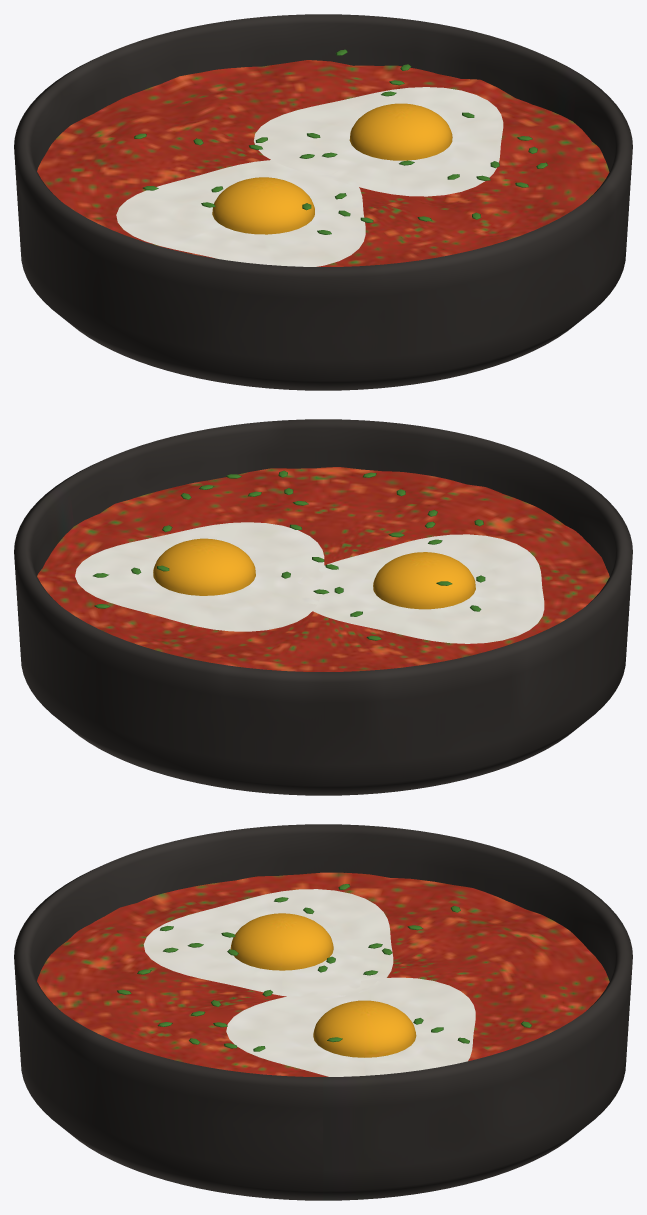
Rendered from shakshuka.glb.
3 views of the same model, one above another, from view 1: azimuth 30°, elevation 25°; view 2: azimuth 150°, elevation 25°; view 3: azimuth 270°, elevation 25° (orthographic).
Visible parts, largest first — view 1: metal, glaze, gloss, satin; view 2: metal, glaze, gloss, satin; view 3: metal, glaze, gloss, satin.
Boxes of the visible parts, x1,y1,x2,y2 form: metal: (14,14,632,390); glaze: (37,60,609,266); gloss: (212,103,452,234); satin: (134,49,547,234); metal: (14,419,632,795); glaze: (37,467,609,671); gloss: (153,538,475,609); satin: (93,470,485,640); metal: (14,824,632,1200); glaze: (37,872,609,1076); gloss: (230,913,416,1057); satin: (117,884,531,1051).
Bounding box in the file's own units: 0.18 × 0.042 × 0.18.
4 materials, 4 textured.
